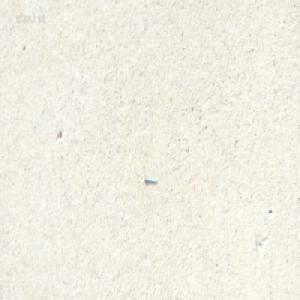Nail: (144, 176, 156, 184)
